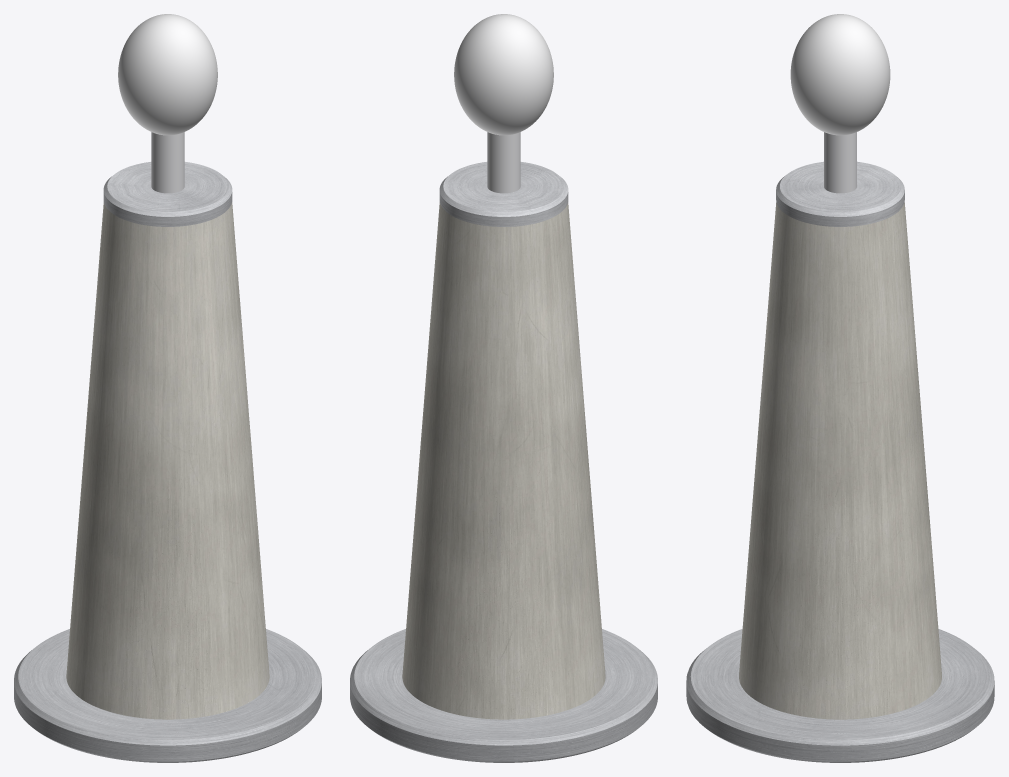
Rendered from queen-white-hd.glb.
3 renders of one model, left to right at view 1: azimuth 30°, elevation 25°; view 2: azimuth 150°, elevation 25°; view 3: azimuth 270°, elevation 25°, orthographic.
Parts seen in each view (by area): view 1: ferro-orbis_queen_white; view 2: ferro-orbis_queen_white; view 3: ferro-orbis_queen_white.
Boxes of the visible parts, x1,y1,x2,y2 form: ferro-orbis_queen_white: (14,14,321,762); ferro-orbis_queen_white: (350,14,657,762); ferro-orbis_queen_white: (686,14,994,762).
Size of the model in its own units: 0.5943 by 1.45 by 0.5943.
5 materials, 3 textured.
